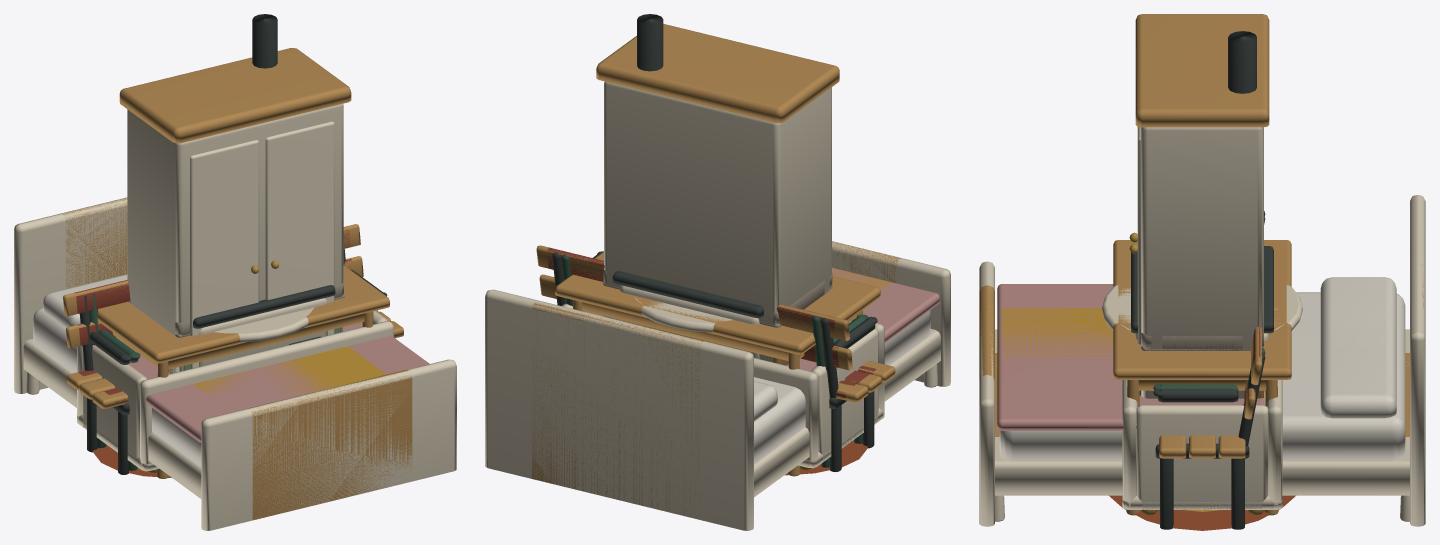
Rendered from furniture.glb.
3 renders of one model, left to right at view 1: azimuth 30°, elevation 25°; view 2: azimuth 150°, elevation 25°; view 3: azimuth 270°, elevation 25°, orthographic. The views are drawn at different scales.
Parts seen in each view (by area): view 1: wardrobe_mesh, bed-double_mesh, bed-single_mesh, tub_mesh, table-farm_mesh, bench-park_mesh, stove_mesh, bench-platform_mesh, table-round_mesh, rug-oval_mesh; view 2: bed-double_mesh, wardrobe_mesh, table-farm_mesh, bench-park_mesh, bed-single_mesh, tub_mesh, stove_mesh, bench-platform_mesh, table-round_mesh, sink-stone_mesh, rug-oval_mesh; view 3: bed-double_mesh, wardrobe_mesh, tub_mesh, bed-single_mesh, table-farm_mesh, bench-park_mesh, stove_mesh, rug-oval_mesh, table-round_mesh, sink-stone_mesh, bench-platform_mesh.
Part boxes in pixels (x1=…): wardrobe_mesh: x1=119, y1=48, x2=351, y2=373; bed-double_mesh: x1=14, y1=197, x2=456, y2=530; bed-single_mesh: x1=60, y1=198, x2=412, y2=520; tub_mesh: x1=77, y1=311, x2=393, y2=473; table-farm_mesh: x1=97, y1=265, x2=389, y2=478; bench-park_mesh: x1=63, y1=224, x2=403, y2=474; stove_mesh: x1=193, y1=14, x2=335, y2=366; bench-platform_mesh: x1=74, y1=226, x2=351, y2=470; table-round_mesh: x1=214, y1=307, x2=314, y2=342; rug-oval_mesh: x1=93, y1=444, x2=171, y2=477; bed-double_mesh: x1=485, y1=241, x2=950, y2=530; wardrobe_mesh: x1=596, y1=24, x2=839, y2=362; table-farm_mesh: x1=555, y1=251, x2=880, y2=476; bench-park_mesh: x1=536, y1=245, x2=895, y2=471; bed-single_mesh: x1=532, y1=242, x2=900, y2=517; tub_mesh: x1=562, y1=303, x2=884, y2=470; stove_mesh: x1=612, y1=14, x2=763, y2=358; bench-platform_mesh: x1=547, y1=247, x2=876, y2=467; table-round_mesh: x1=635, y1=298, x2=732, y2=332; sink-stone_mesh: x1=603, y1=270, x2=832, y2=365; rug-oval_mesh: x1=785, y1=440, x2=867, y2=475; bed-double_mesh: x1=979, y1=195, x2=1425, y2=526; wardrobe_mesh: x1=1129, y1=14, x2=1269, y2=398; tub_mesh: x1=1122, y1=380, x2=1282, y2=515; bed-single_mesh: x1=979, y1=264, x2=1423, y2=436; table-farm_mesh: x1=1113, y1=240, x2=1291, y2=515; bench-park_mesh: x1=1153, y1=211, x2=1265, y2=529; stove_mesh: x1=1131, y1=31, x2=1273, y2=340; rug-oval_mesh: x1=1109, y1=495, x2=1295, y2=530; table-round_mesh: x1=1102, y1=285, x2=1302, y2=330; sink-stone_mesh: x1=1139, y1=332, x2=1263, y2=398; bench-platform_mesh: x1=1153, y1=215, x2=1265, y2=444.
Bounding box in the file's own units: 1.8 × 2.2 × 2.
